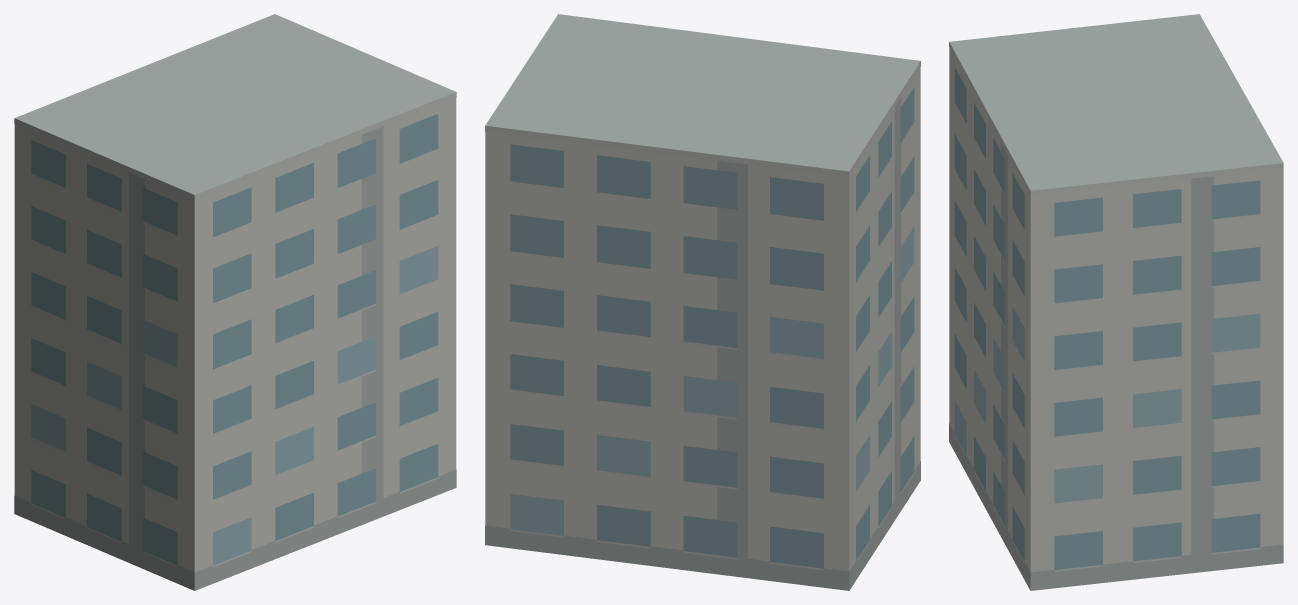
Rendered from survey-upis-32821786.glb.
The picture shows the model from 3 angles, left to right: view 1: azimuth 30°, elevation 25°; view 2: azimuth 150°, elevation 25°; view 3: azimuth 270°, elevation 25°; orthographic projection. The views are drawn at different scales.
Visible parts, largest first — view 1: survey-upis-32821786.tmp; view 2: survey-upis-32821786.tmp; view 3: survey-upis-32821786.tmp.
Part boxes in pixels (x1,y1,x2,y2): survey-upis-32821786.tmp: [14, 14, 456, 590]; survey-upis-32821786.tmp: [485, 14, 920, 590]; survey-upis-32821786.tmp: [949, 14, 1283, 590].
Bounding box in the file's own units: 16.59 × 17.5 × 13.27.
